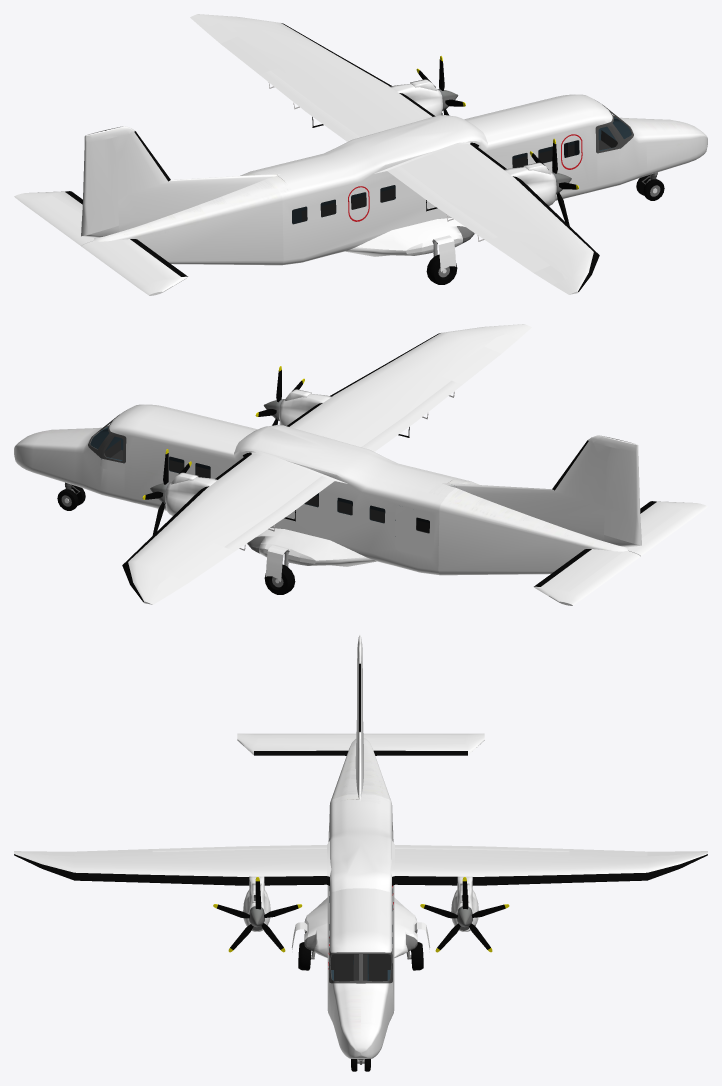
File: aircraft.glb
3 renders of one model, top to bottom at view 1: azimuth 30°, elevation 25°; view 2: azimuth 150°, elevation 25°; view 3: azimuth 270°, elevation 25°, orthographic. The views are drawn at different scales.
Visible parts, largest first — view 1: Cube.027, Cube.036, Circle.008, Circle.009, Cube.003, elevator, Circle.010, Cube.007, Cube.025, Cube.005, right_aileron, left_aileron (+8 smaller); view 2: Cube.027, Cube.036, Circle.008, Circle.009, Cube.003, elevator, Circle.010, Cube.007, Cube.004, left_aileron, right_aileron, Cube.005 (+9 smaller); view 3: Cube.027, Cube.036, Cube.034, Circle.010, Cube.003, elevator, Plane.004, Cube.007, propconeL, propcone_R, Circle.012, Circle.008 (+2 smaller).
Part boxes in pixels (x1,y1,x2,y2): Cube.027: (94, 94, 707, 265); Cube.036: (190, 14, 593, 294); Circle.008: (116, 128, 281, 231); Circle.009: (81, 126, 131, 237); Cube.003: (345, 218, 474, 256); elevator: (14, 192, 172, 295); Circle.010: (40, 191, 187, 285); Cube.007: (390, 84, 556, 205); Cube.025: (292, 140, 579, 224); Cube.005: (387, 166, 497, 241); right_aileron: (487, 233, 567, 284); left_aileron: (204, 23, 280, 74); Cube.027: (14, 404, 627, 575); Cube.036: (128, 324, 531, 604); Circle.008: (442, 437, 606, 541); Circle.009: (591, 435, 641, 547); Cube.003: (247, 528, 376, 566); elevator: (549, 502, 707, 605); Circle.010: (534, 501, 681, 595); Cube.007: (165, 394, 331, 515); Cube.004: (224, 476, 334, 551); left_aileron: (154, 543, 234, 594); right_aileron: (441, 333, 517, 384); Cube.005: (361, 380, 461, 451); Cube.027: (327, 738, 394, 1058); Cube.036: (14, 841, 707, 876); Cube.034: (14, 854, 707, 885); Circle.010: (244, 738, 477, 754); Cube.003: (304, 897, 417, 957); elevator: (237, 733, 484, 745); Plane.004: (330, 954, 391, 981); Cube.007: (243, 876, 478, 931); propconeL: (420, 877, 509, 952); propcone_R: (213, 877, 302, 952); Circle.012: (254, 750, 467, 755); Circle.008: (355, 659, 363, 800).
Bounding box in the file's own units: 15.95 × 5.02 × 16.75.
13 materials, 3 textured.
